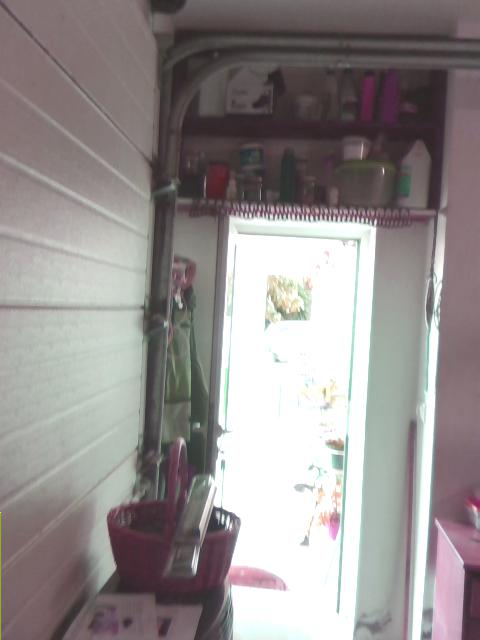open_door: (217, 228, 362, 614)
